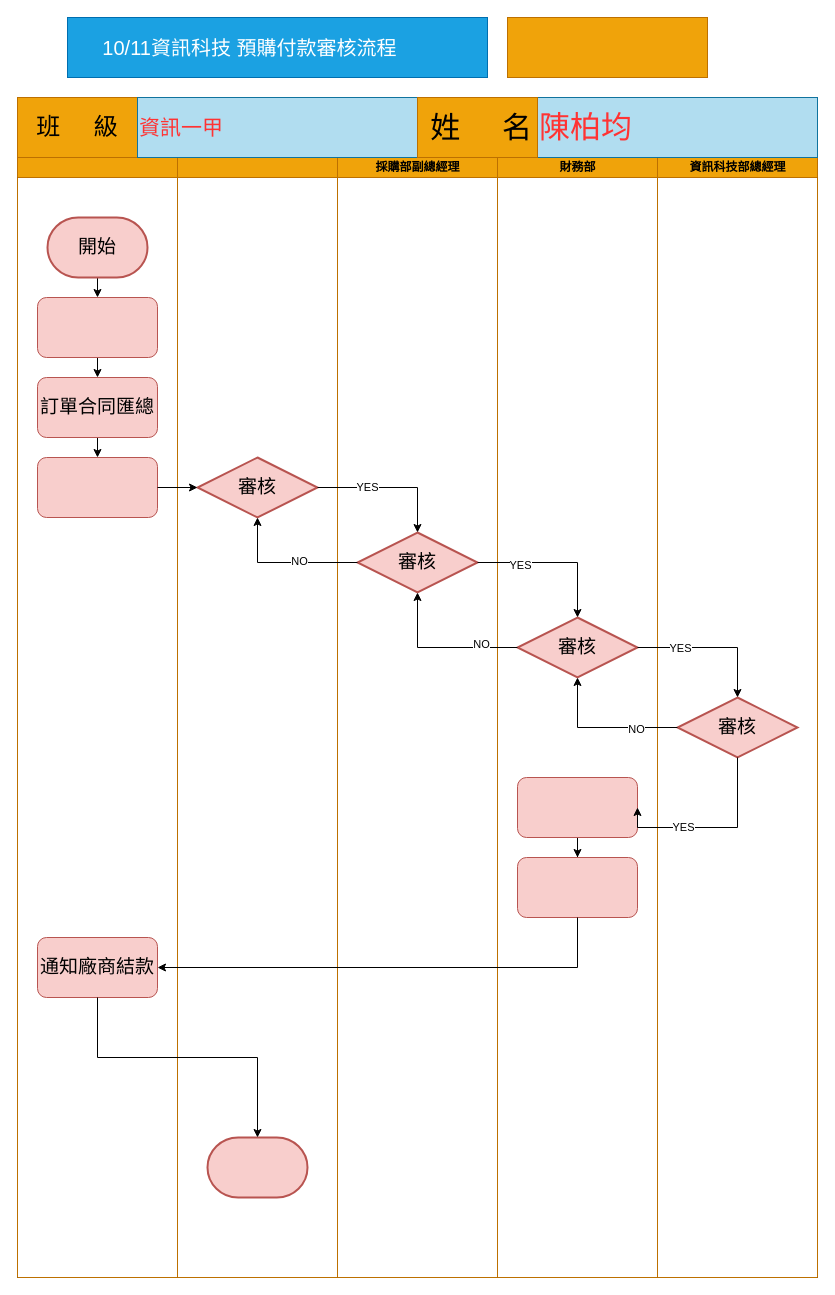
The diagram is 835 pixels wide and 1295 high, and some of its shapes have lost their labels. The box of each missing label's shape, as (x1, y1, x2, y2) in pixels:
付款: (516, 776, 638, 838)
付款憑證: (516, 856, 638, 918)
填寫付款申請: (36, 456, 158, 518)
學號： 33050123: (506, 16, 708, 78)
採購員: (16, 156, 178, 1278)
採購單匯總: (36, 296, 158, 358)
採購部經理: (176, 156, 338, 1278)
結束: (206, 1136, 308, 1198)
